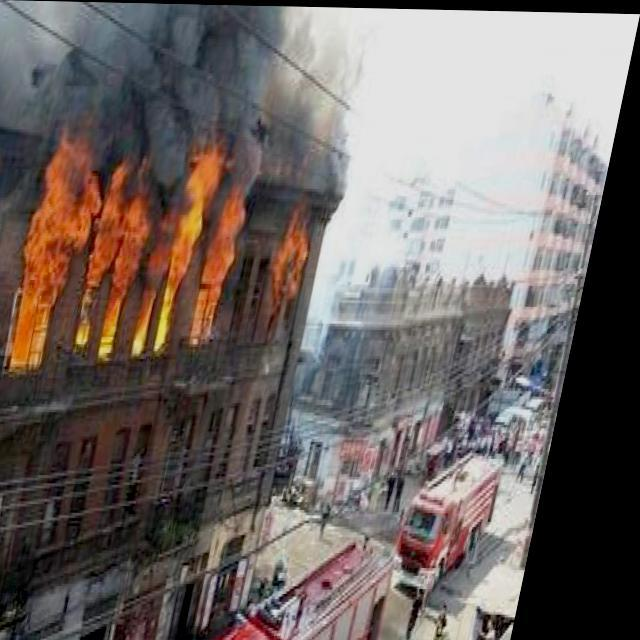Fire: (11, 132, 266, 364), (276, 205, 326, 311)
